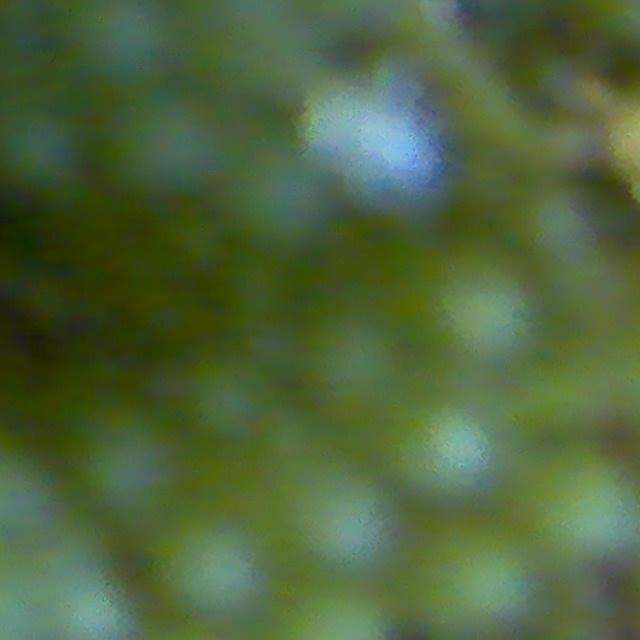SeaGrape: (260, 445, 396, 574), (406, 530, 540, 640), (411, 256, 530, 377), (385, 389, 503, 507), (109, 88, 229, 202), (75, 407, 185, 520), (152, 510, 270, 611), (521, 459, 640, 552), (303, 313, 405, 417), (227, 158, 331, 255), (63, 0, 179, 85), (0, 104, 86, 197), (515, 179, 602, 265), (190, 358, 272, 440), (51, 578, 140, 640)
